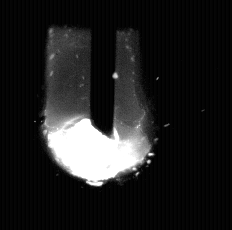arame: (90, 0, 117, 140)
poca: (47, 0, 142, 230)
